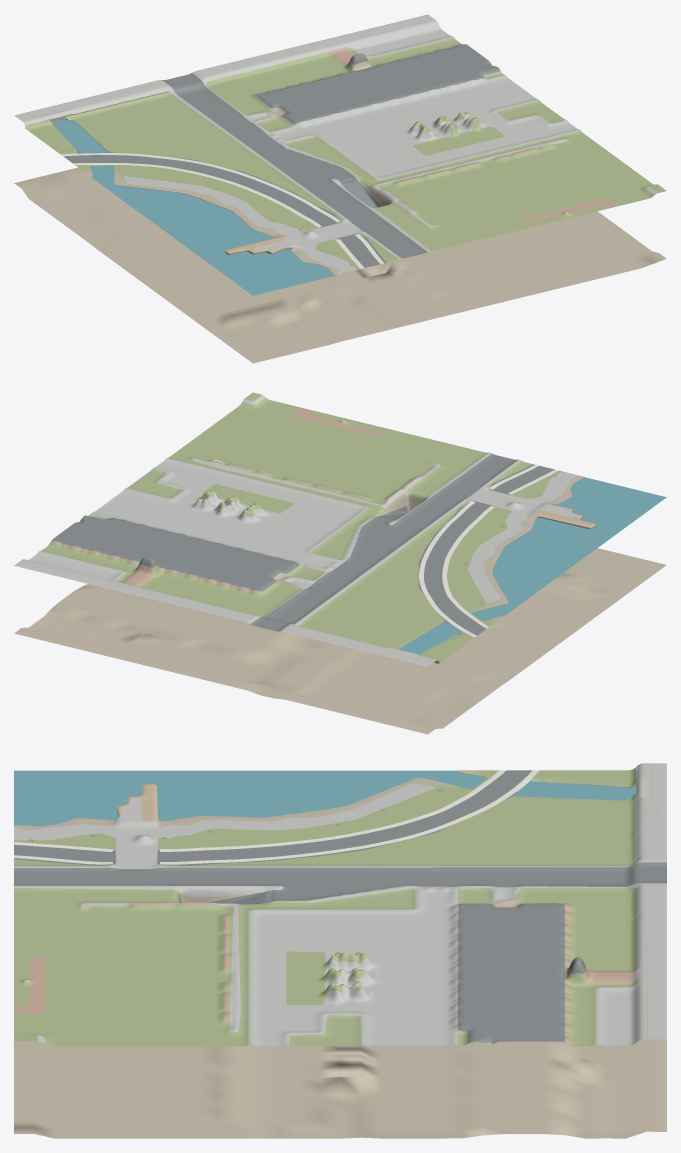
The picture shows the model from 3 angles, top to bottom: view 1: azimuth 30°, elevation 25°; view 2: azimuth 150°, elevation 25°; view 3: azimuth 270°, elevation 25°; orthographic projection. The views are drawn at different scales.
Visible parts, largest first — view 1: s_-7_1__soil, s_-7_1__grass, s_-7_1__stone_paving, s_-7_1__asphalt, s_-7_1__water, s_-7_1__white_marking, s_-7_1__brick_paving, s_-7_1__timber_deck; view 2: s_-7_1__soil, s_-7_1__grass, s_-7_1__stone_paving, s_-7_1__asphalt, s_-7_1__water, s_-7_1__brick_paving, s_-7_1__white_marking, s_-7_1__timber_deck; view 3: s_-7_1__grass, s_-7_1__soil, s_-7_1__stone_paving, s_-7_1__asphalt, s_-7_1__water, s_-7_1__white_marking, s_-7_1__brick_paving, s_-7_1__timber_deck.
Boxes of the visible parts, bbox=[...] form: s_-7_1__soil: bbox=[14, 62, 666, 363]; s_-7_1__grass: bbox=[25, 38, 666, 269]; s_-7_1__stone_paving: bbox=[14, 14, 657, 274]; s_-7_1__asphalt: bbox=[63, 44, 500, 267]; s_-7_1__water: bbox=[52, 119, 334, 295]; s_-7_1__white_marking: bbox=[61, 153, 383, 268]; s_-7_1__brick_paving: bbox=[254, 44, 618, 222]; s_-7_1__timber_deck: bbox=[20, 19, 434, 253]; s_-7_1__soil: bbox=[14, 457, 666, 734]; s_-7_1__grass: bbox=[40, 392, 562, 661]; s_-7_1__stone_paving: bbox=[14, 395, 581, 666]; s_-7_1__asphalt: bbox=[51, 453, 554, 635]; s_-7_1__water: bbox=[399, 477, 666, 654]; s_-7_1__brick_paving: bbox=[50, 407, 418, 594]; s_-7_1__white_marking: bbox=[419, 465, 558, 637]; s_-7_1__timber_deck: bbox=[21, 505, 595, 662]; s_-7_1__grass: bbox=[14, 767, 636, 1046]; s_-7_1__soil: bbox=[14, 770, 666, 1138]; s_-7_1__stone_paving: bbox=[14, 763, 666, 1046]; s_-7_1__asphalt: bbox=[14, 770, 666, 1043]; s_-7_1__water: bbox=[14, 770, 636, 862]; s_-7_1__white_marking: bbox=[14, 770, 539, 864]; s_-7_1__brick_paving: bbox=[14, 903, 636, 1043]; s_-7_1__timber_deck: bbox=[116, 763, 651, 1039].
Bounding box in the file's own units: 128 × 28.13 × 128.
